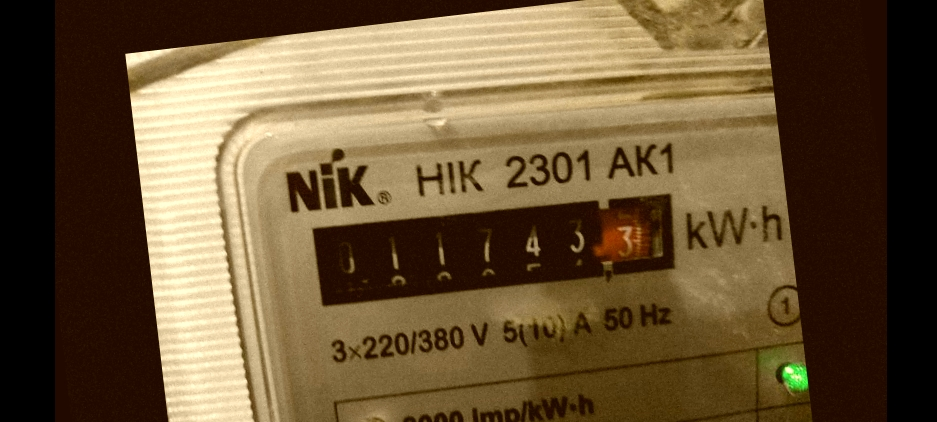0: (333, 236, 360, 278), (383, 230, 405, 273)
1: (430, 226, 450, 268)
3: (564, 213, 589, 258), (613, 220, 638, 260)
4: (519, 218, 544, 260)
7: (472, 220, 500, 266)
screen: (291, 172, 689, 323)
